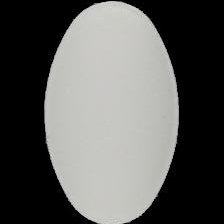51079-986: (0, 0, 224, 224)
